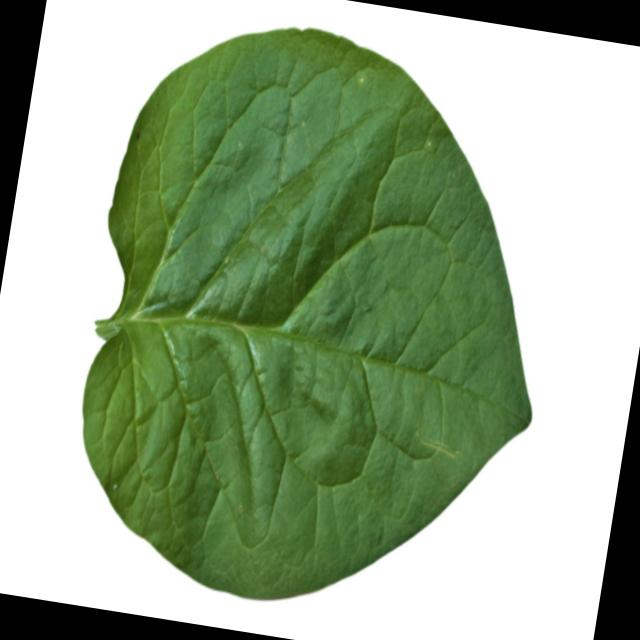Medicinal-Basale: (52, 0, 588, 638)
